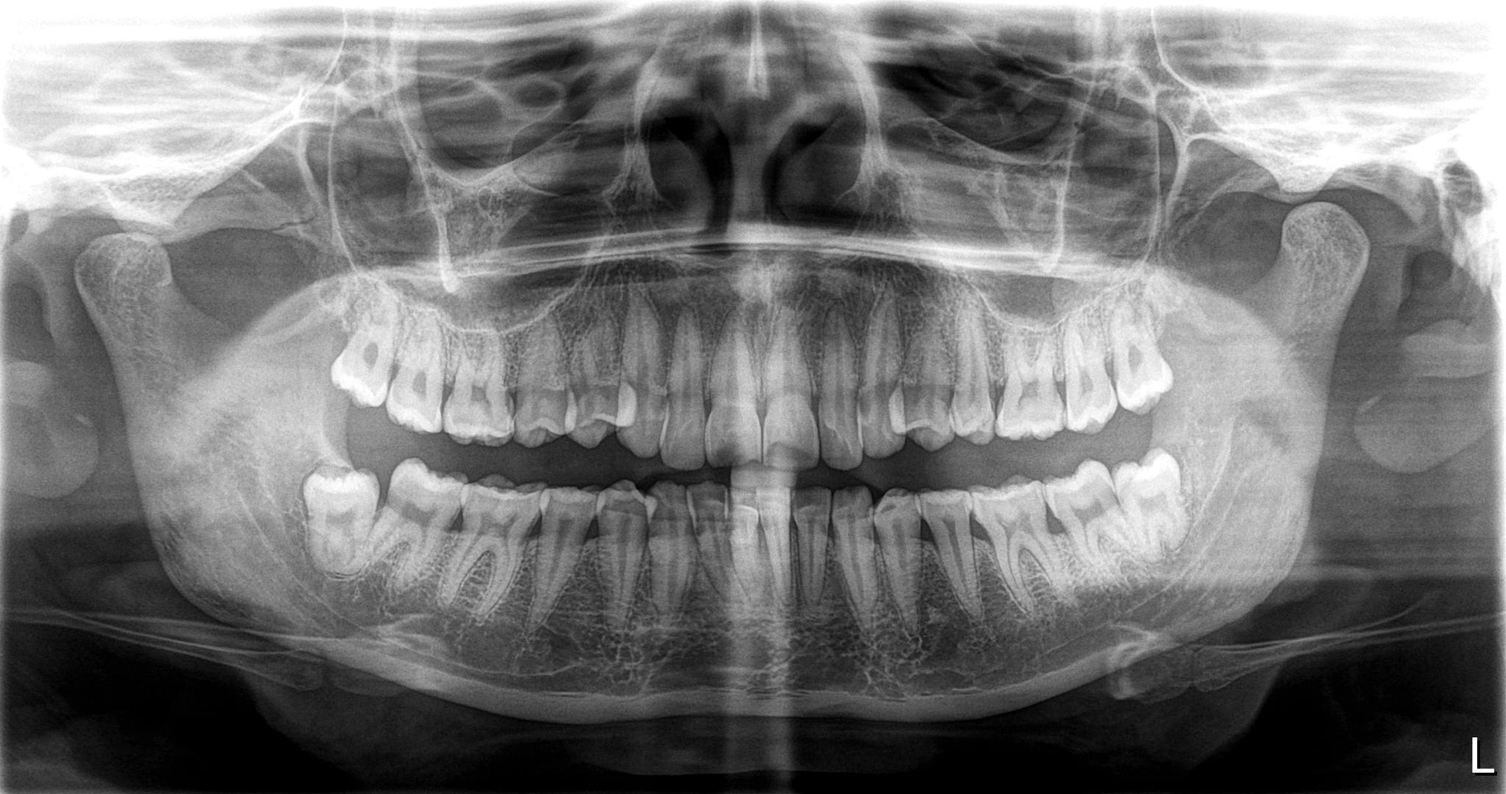Impacted Third Molar: (298, 476, 379, 585)
